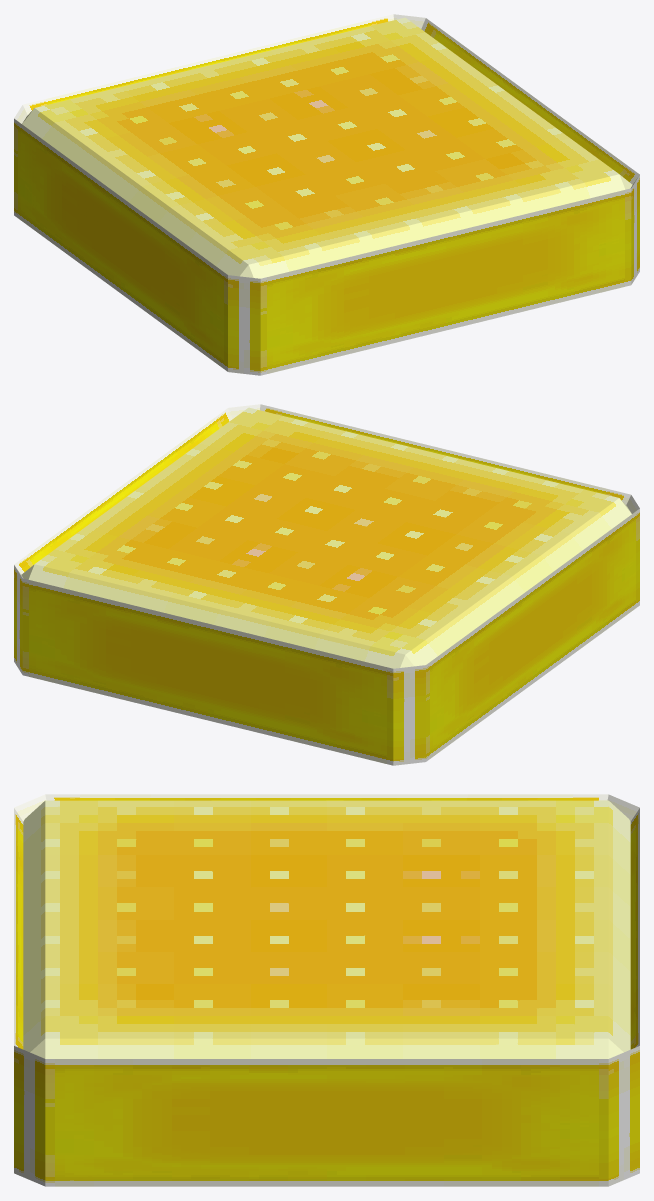
Rendered from yellowblock.obj.
3 views of the same model, one above another, from view 1: azimuth 30°, elevation 25°; view 2: azimuth 150°, elevation 25°; view 3: azimuth 270°, elevation 25° (orthographic). The views are drawn at different scales.
Parts seen in each view (by area): view 1: obj2, obj1; view 2: obj2, obj1; view 3: obj2, obj1.
Part boxes in pixels (x1,y1,x2,y2): obj2: [22, 17, 632, 278]; obj1: [14, 14, 639, 375]; obj2: [21, 407, 631, 668]; obj1: [14, 404, 639, 765]; obj2: [23, 800, 630, 1058]; obj1: [14, 794, 639, 1186].
Size of the model in its own units: 20 by 5 by 20.
